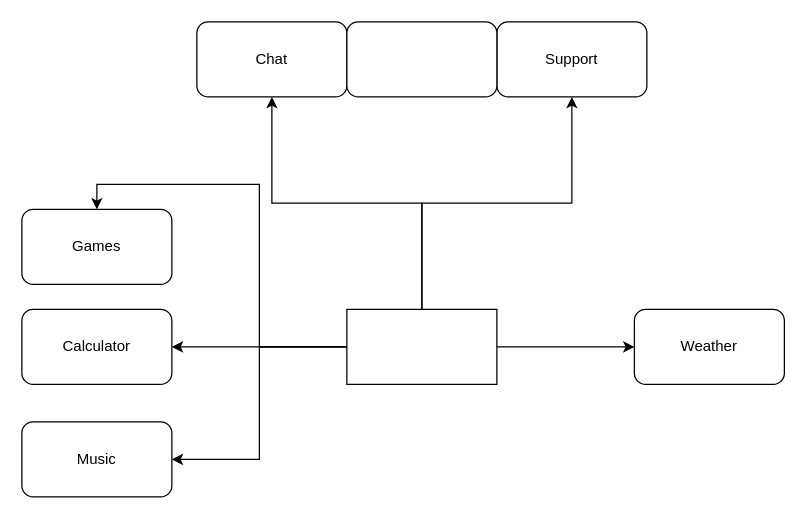
Some shapes in this 806 by 519 pixel diagram are drawn without their labels. Each missing label, with the centre of its shape:
Articles: (x=421, y=59)
WitherBot: (x=421, y=346)
